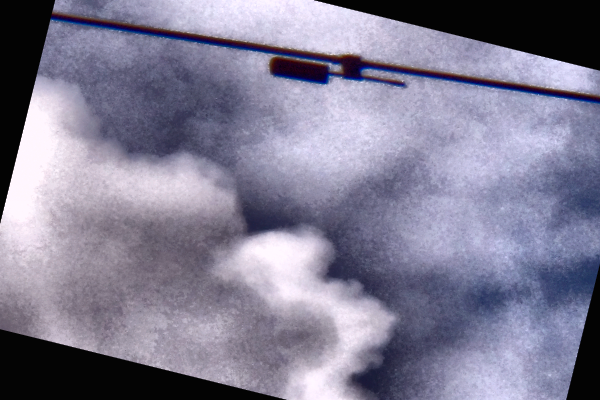damper_defect: (264, 46, 415, 92)
